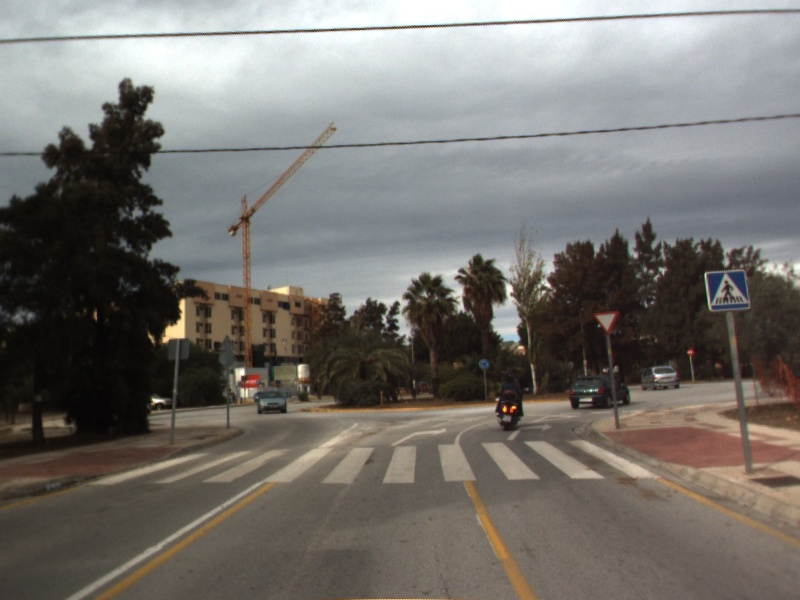RIGHT: (388, 425, 448, 448), (504, 421, 554, 442)
